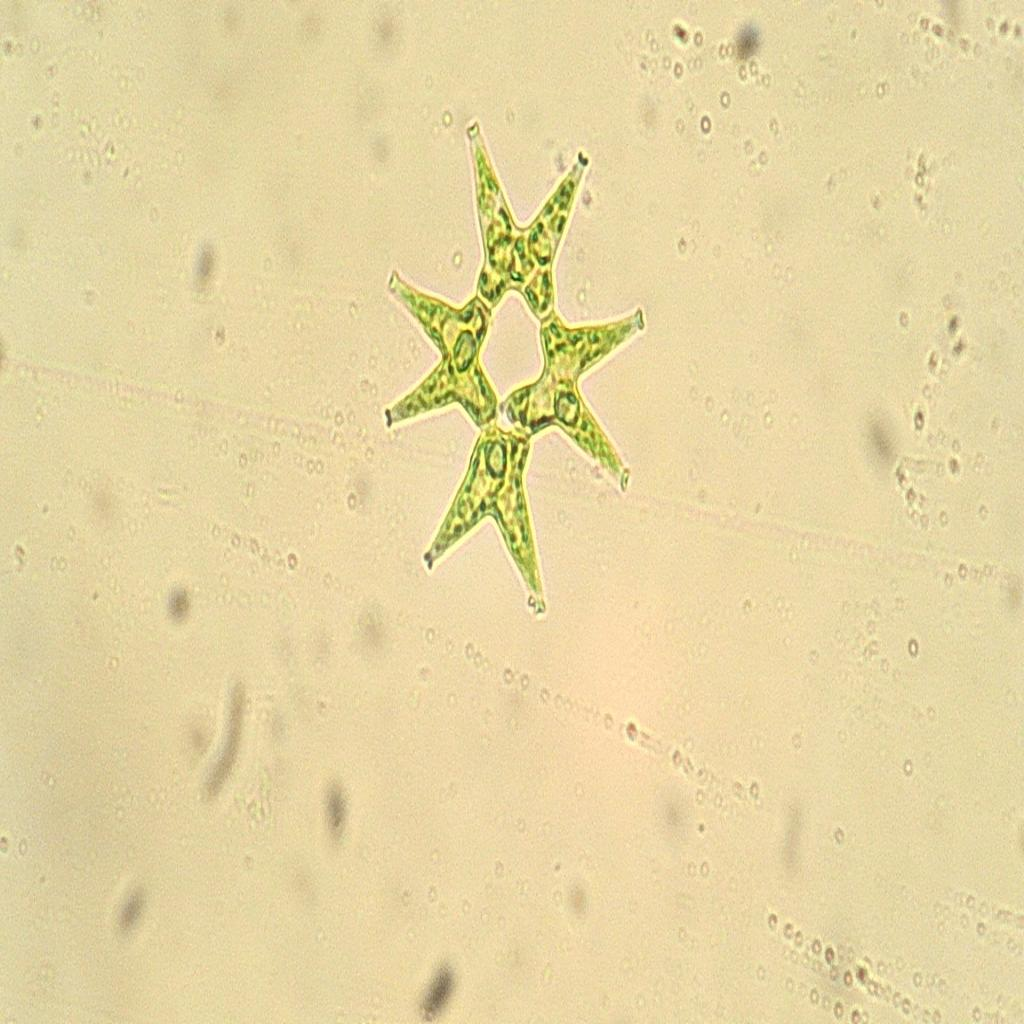Pediastrum_75FI: (354, 96, 654, 642)
